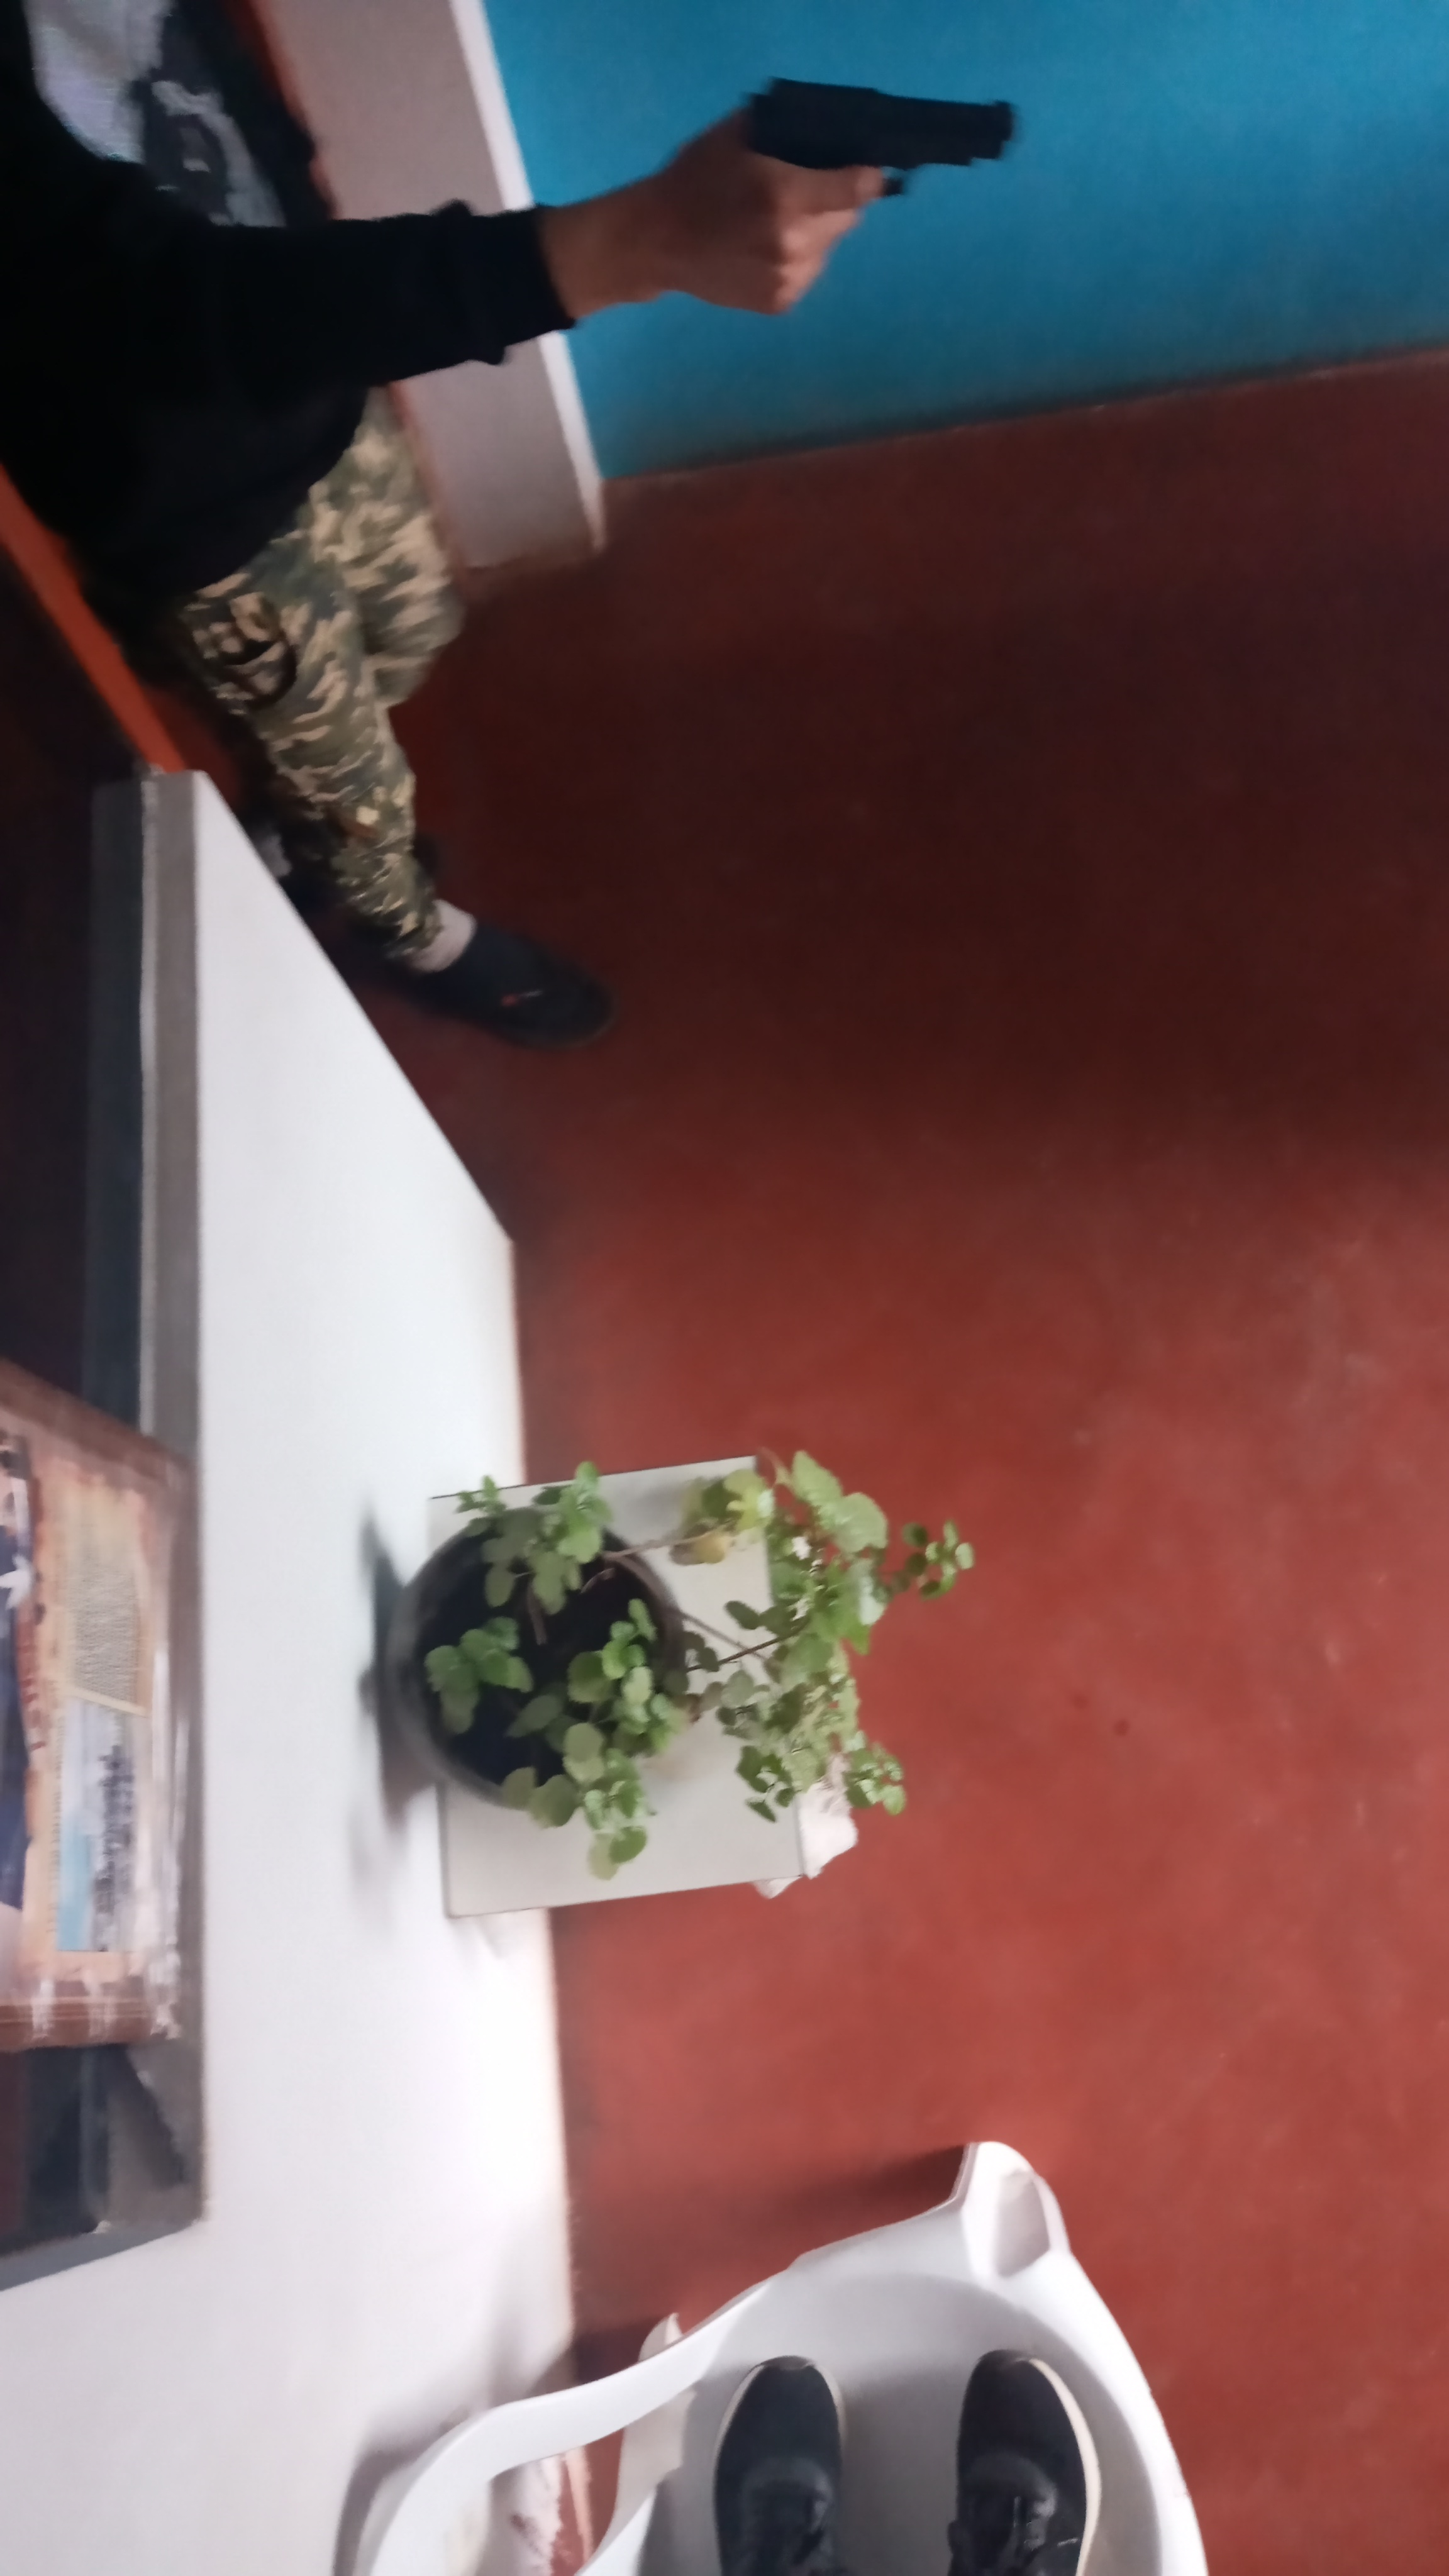Arma: (727, 74, 1030, 191)
